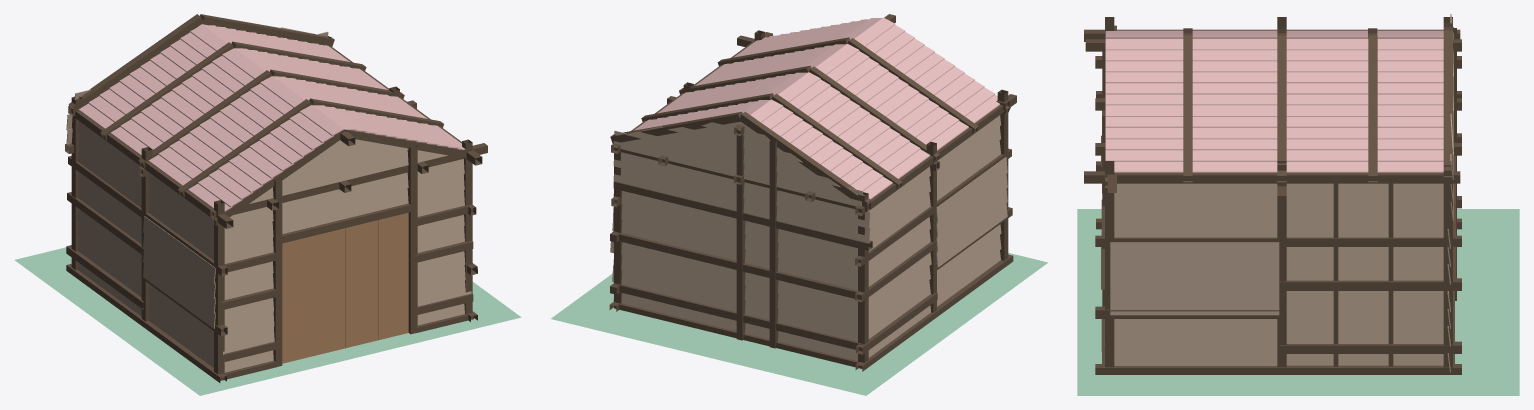
Rendered from naya.fbx.
3 renders of one model, left to right at view 1: azimuth 30°, elevation 25°; view 2: azimuth 150°, elevation 25°; view 3: azimuth 270°, elevation 25°, orthographic. The views are drawn at different scales.
Visible parts, largest first — view 1: pasted__pCube44, pasted__pCube85, pCube155, pCube198, pPlane2; view 2: pasted__pCube44, pasted__pCube85, pCube155, pPlane2; view 3: pasted__pCube44, pCube155, pasted__pCube85, pPlane2.
Boxes of the visible parts, bbox=[...] form: pasted__pCube44: bbox=[66, 27, 471, 372]; pasted__pCube85: bbox=[65, 14, 487, 382]; pCube155: bbox=[78, 24, 465, 211]; pCube198: bbox=[282, 212, 408, 363]; pPlane2: bbox=[14, 247, 521, 395]; pasted__pCube44: bbox=[610, 115, 1007, 360]; pasted__pCube85: bbox=[609, 14, 1016, 371]; pCube155: bbox=[634, 17, 1000, 199]; pPlane2: bbox=[551, 253, 1047, 395]; pasted__pCube44: bbox=[1104, 14, 1453, 372]; pCube155: bbox=[1105, 30, 1443, 172]; pasted__pCube85: bbox=[1084, 17, 1461, 374]; pPlane2: bbox=[1077, 209, 1519, 395].
Bounding box in the file's own units: 684 × 468 × 684.
